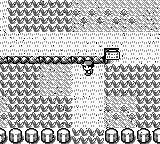captura: (1, 64, 72, 128), (104, 64, 160, 128), (8, 0, 73, 31), (72, 128, 104, 143)
leer: (104, 48, 119, 63)
main: (81, 60, 94, 76)
no-caminable: (1, 128, 72, 143), (105, 128, 159, 143)
salto: (2, 56, 103, 64)
